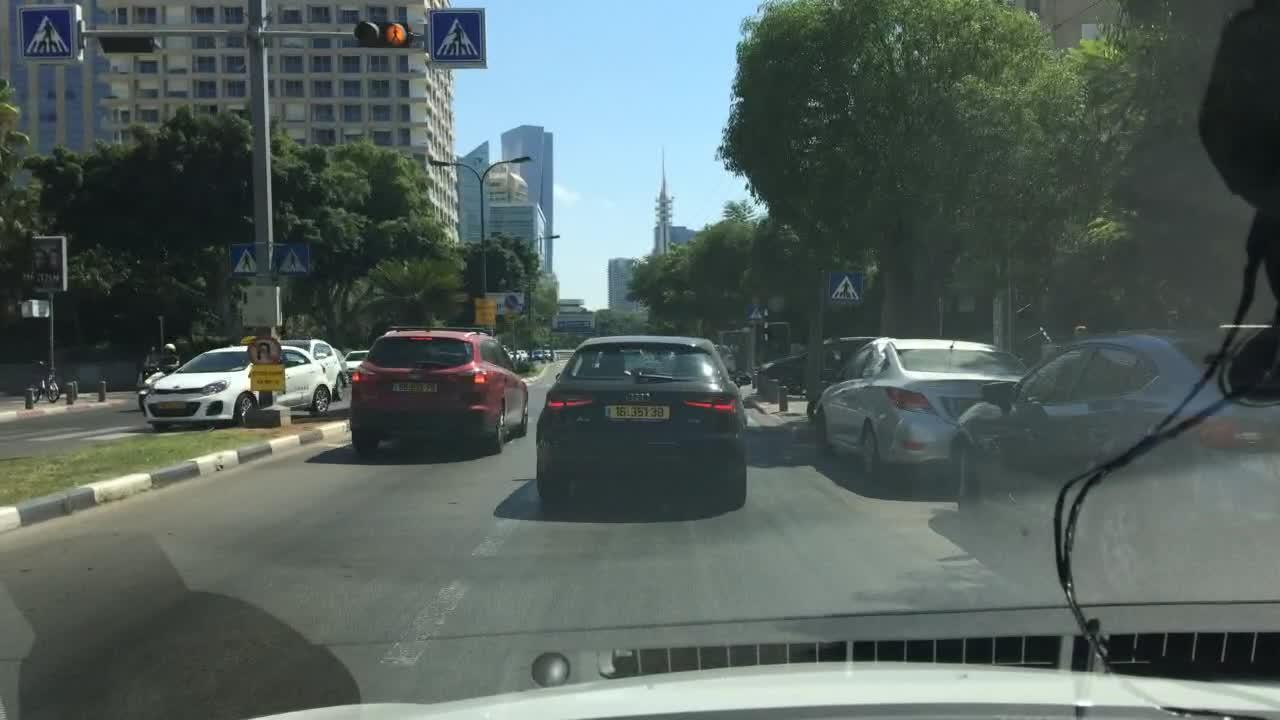Audi: (620, 387, 663, 404)
